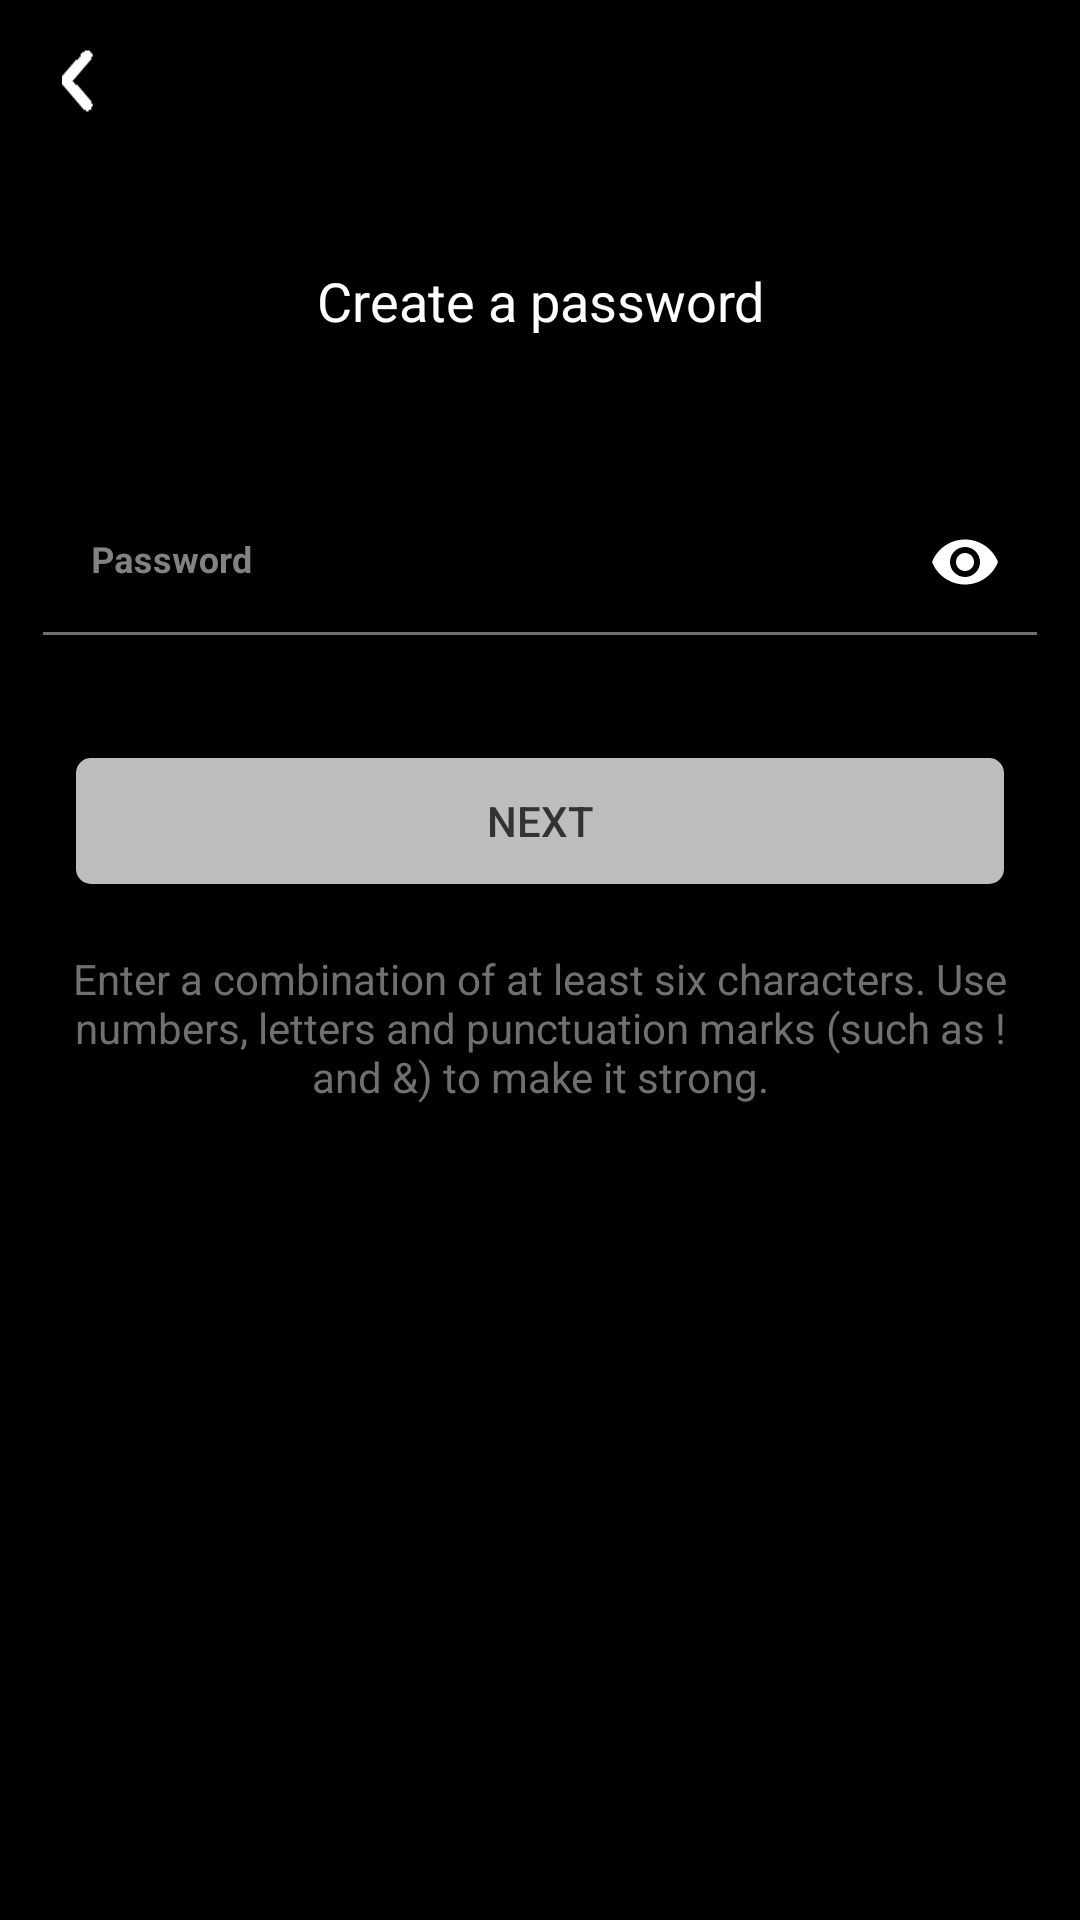

Screen size 1080px×1920px. Icon name, then its box in pixels as (x1, y1, x2, y2):
back: (62, 50, 93, 112)
